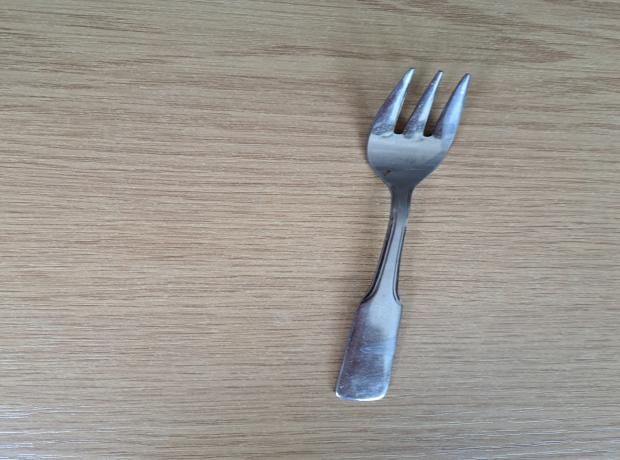metal: (331, 72, 470, 402)
